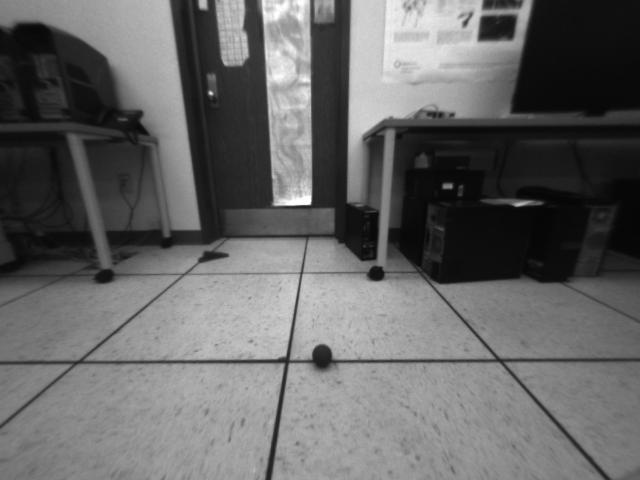dogtoy: (307, 334, 340, 372)
